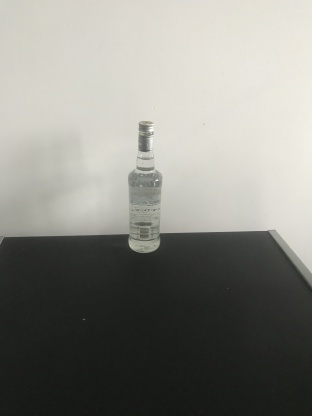nakretka: (136, 118, 155, 151)
